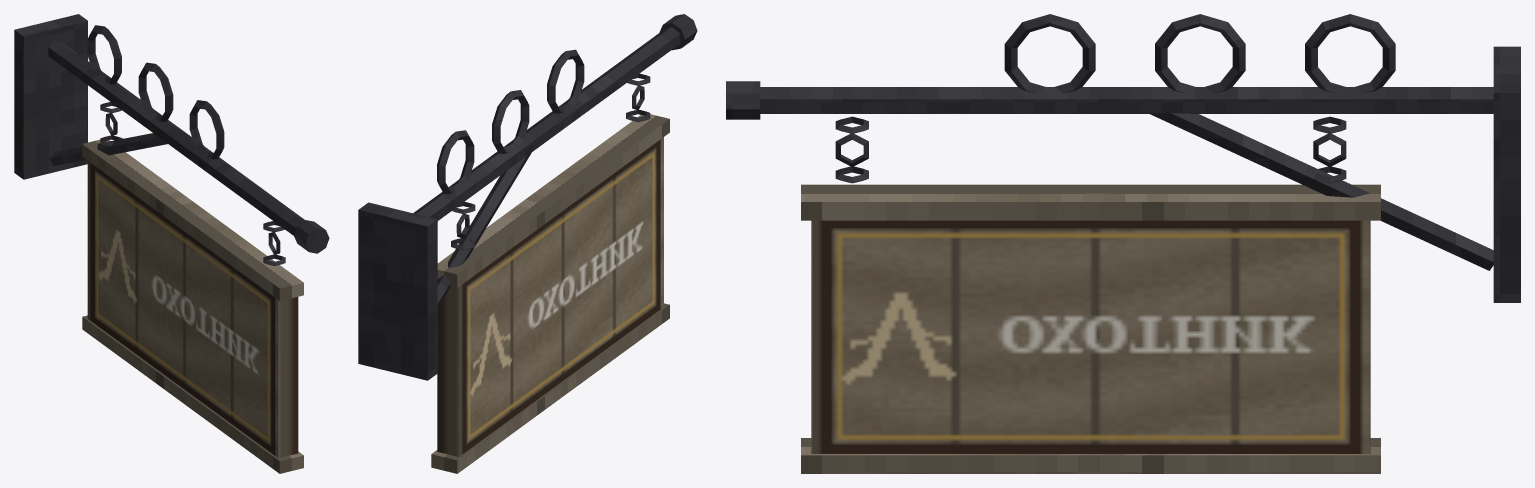
Rendered from sign_hunter.obj.
The picture shows the model from 3 angles, left to right: view 1: azimuth 30°, elevation 25°; view 2: azimuth 150°, elevation 25°; view 3: azimuth 270°, elevation 25°; orthographic projection. The views are drawn at different scales.
Visible parts, largest first — view 1: sign_hunter; view 2: sign_hunter; view 3: sign_hunter.
Boxes of the visible parts, x1=… form: sign_hunter: x1=14, y1=14, x2=329, y2=473; sign_hunter: x1=358, y1=14, x2=697, y2=473; sign_hunter: x1=726, y1=14, x2=1520, y2=473.
Size of the model in its own units: 0.16 by 0.73 by 1.16.
